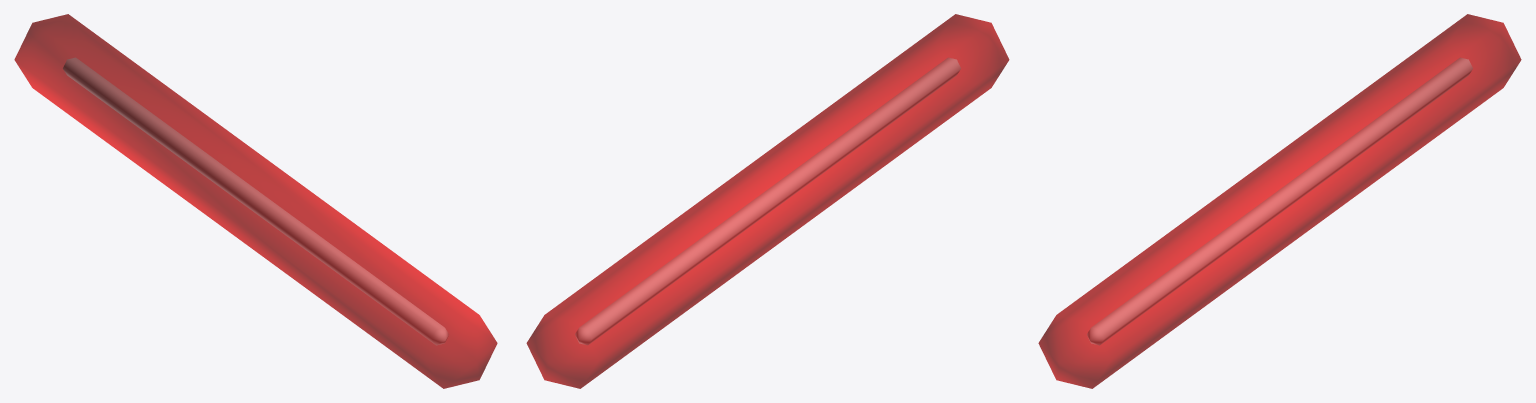
File: red_turret_laser_model.fbx
The picture shows the model from 3 angles, left to right: view 1: azimuth 30°, elevation 25°; view 2: azimuth 150°, elevation 25°; view 3: azimuth 330°, elevation 25°; orthographic projection.
Parts seen in each view (by area): view 1: glow, bolt; view 2: glow, bolt; view 3: glow, bolt.
Boxes of the visible parts, x1,y1,x2,y2 form: glow: (14,14,497,388); bolt: (63,57,448,345); glow: (526,14,1009,388); bolt: (575,57,960,345); glow: (1038,14,1521,388); bolt: (1087,57,1472,345).
Bounding box in the file's own units: 7.56 × 6.55 × 80.08.
